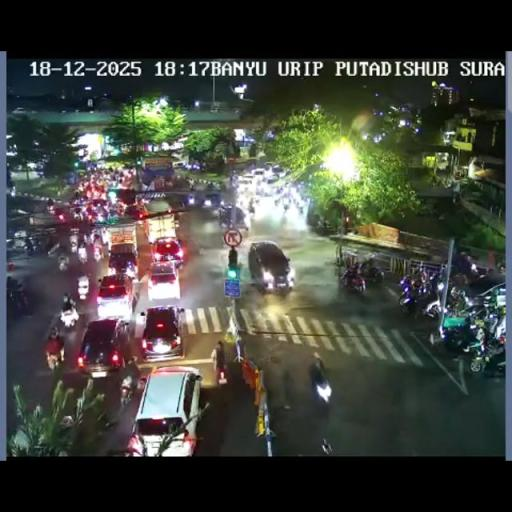Car: (126, 365, 202, 454), (75, 316, 128, 377), (138, 305, 185, 360), (248, 241, 294, 294), (95, 274, 135, 320), (146, 259, 182, 301), (142, 208, 178, 246), (467, 280, 505, 311), (106, 248, 140, 281), (112, 187, 141, 207), (198, 191, 222, 209), (122, 203, 146, 221), (76, 274, 90, 298), (262, 161, 284, 176), (54, 206, 71, 222), (236, 173, 254, 187), (90, 198, 108, 212), (250, 168, 266, 182), (266, 173, 278, 183)
Motorcycle: (438, 314, 484, 358), (398, 273, 437, 315), (264, 353, 290, 410), (272, 182, 308, 214), (478, 336, 506, 377), (310, 364, 332, 403), (6, 284, 28, 314), (358, 261, 384, 286), (449, 287, 469, 315), (118, 376, 136, 407), (490, 307, 506, 341), (45, 344, 64, 370), (206, 249, 224, 276), (343, 260, 361, 285), (449, 269, 470, 289), (311, 218, 335, 235), (60, 306, 78, 328), (214, 354, 227, 384), (91, 235, 104, 262), (27, 237, 46, 255), (116, 320, 130, 341), (471, 265, 488, 279), (218, 210, 230, 228), (68, 231, 78, 252), (131, 288, 139, 313), (77, 246, 88, 264), (107, 204, 121, 218), (72, 206, 84, 221), (240, 208, 250, 226), (172, 210, 182, 226), (196, 242, 206, 257), (250, 194, 260, 208), (95, 210, 105, 224), (58, 257, 68, 271), (496, 260, 506, 274), (138, 376, 147, 391), (126, 355, 138, 366), (83, 231, 92, 245), (230, 174, 238, 188), (184, 177, 194, 188), (255, 183, 263, 196), (46, 204, 56, 214), (249, 204, 256, 218), (282, 200, 290, 212), (274, 196, 282, 206), (298, 202, 304, 214)
